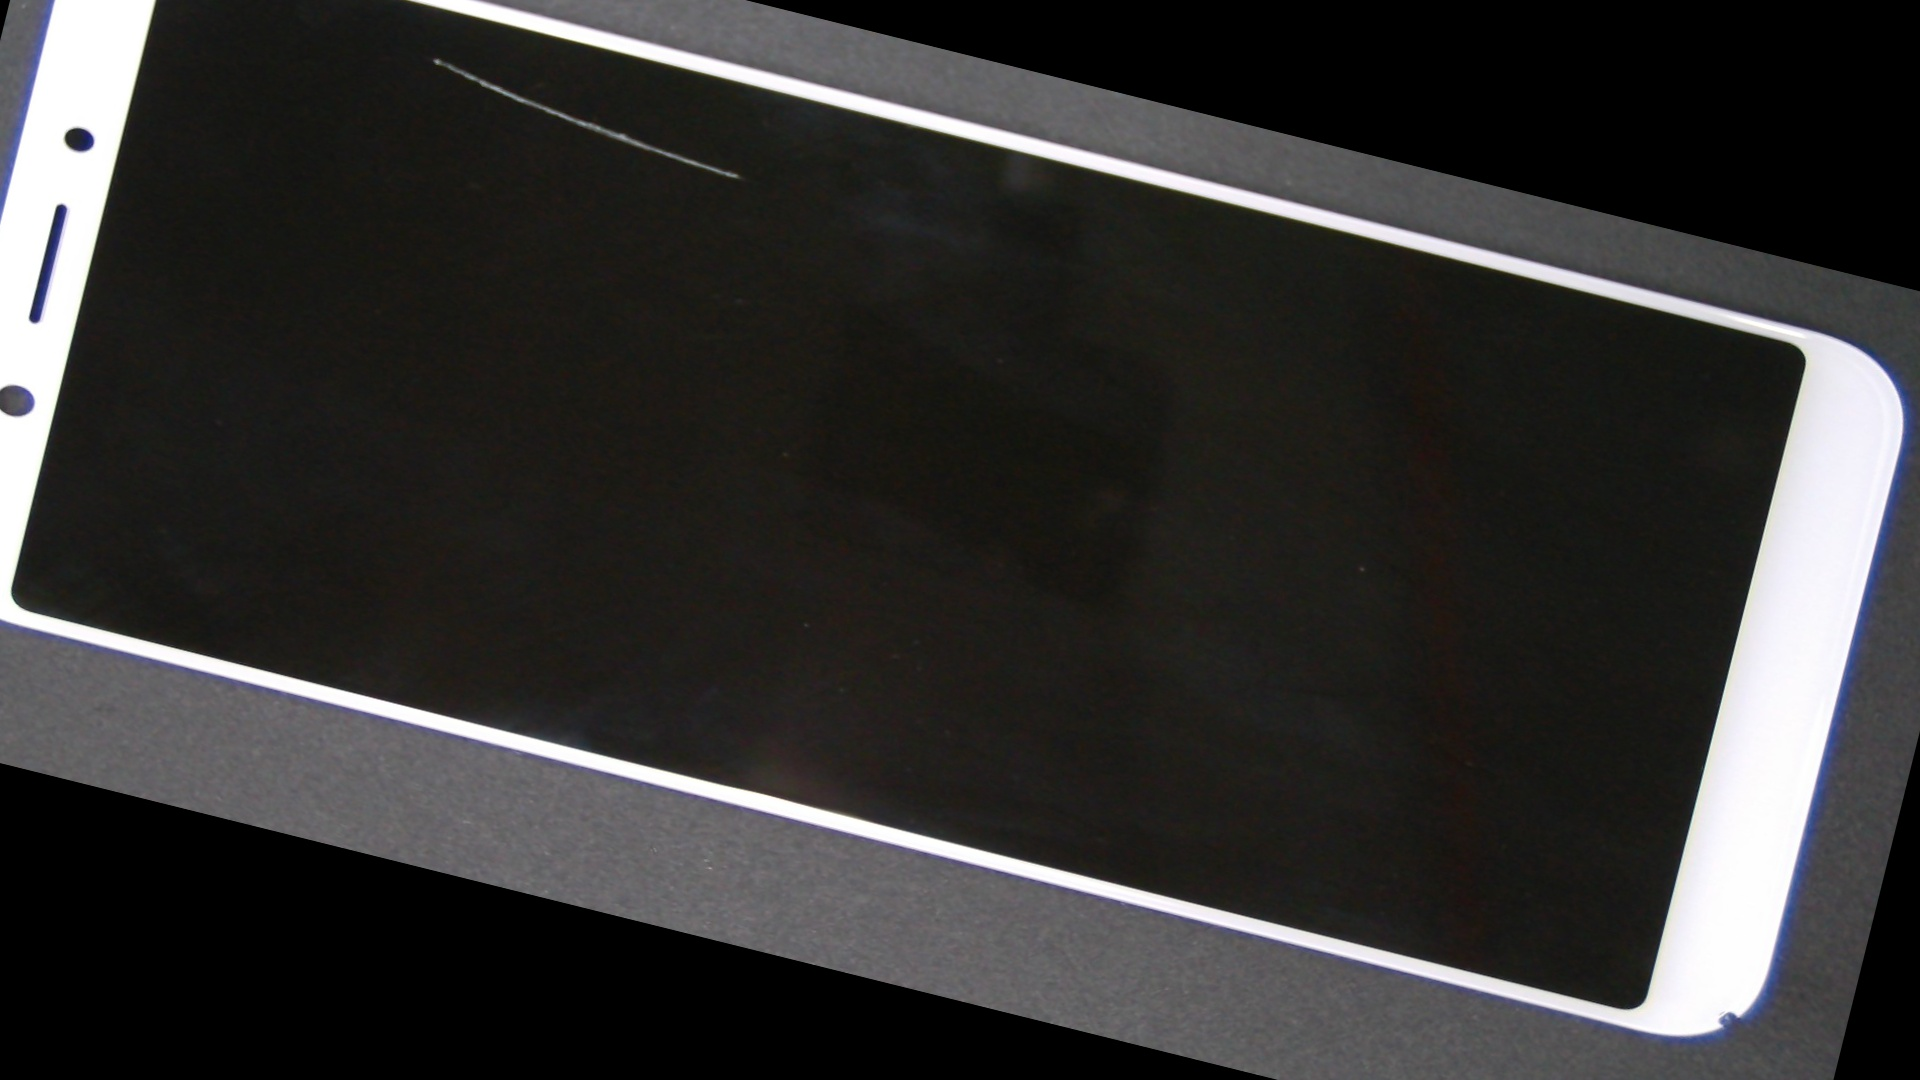oil: (212, 0, 658, 174)
